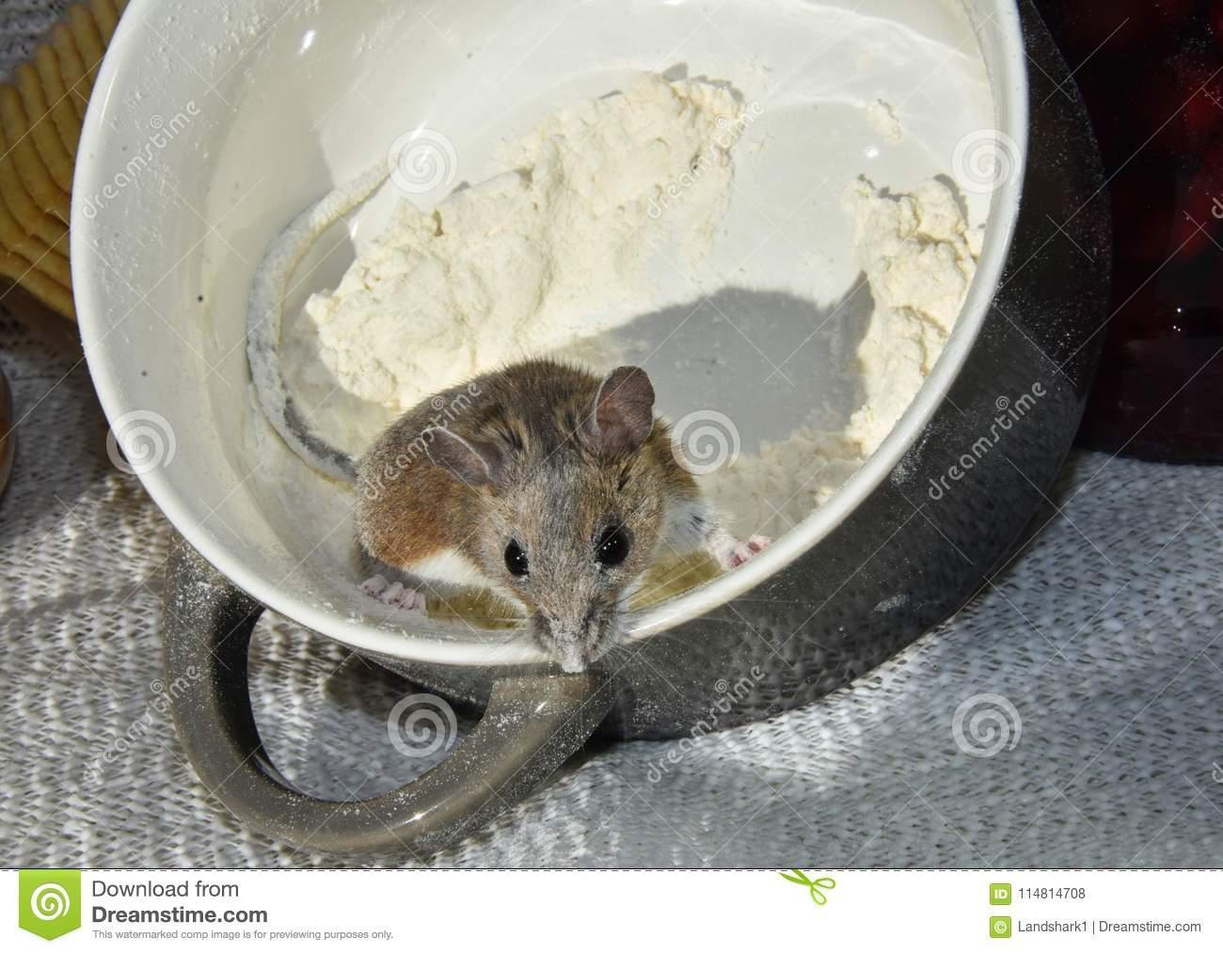rat: (247, 139, 772, 674)
